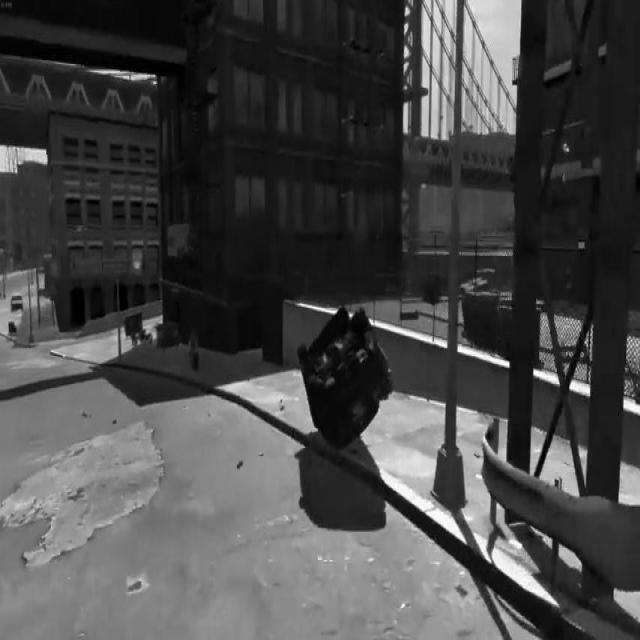severe: (294, 299, 393, 454)
